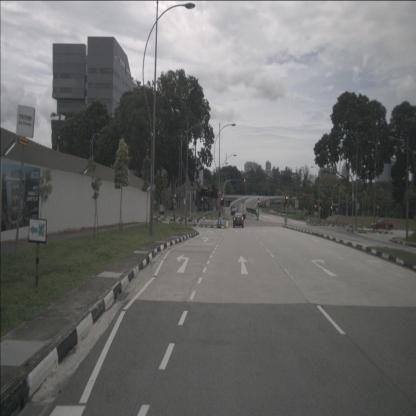vehicle-car: (371, 218, 394, 230), (233, 212, 244, 228), (231, 208, 236, 215)
vehicle-truck: (237, 202, 246, 220)
